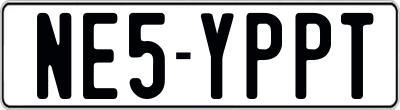5: (126, 10, 163, 99)
E: (83, 10, 121, 98)
N: (35, 13, 70, 101)
P: (243, 11, 284, 98), (293, 12, 331, 102)
T: (341, 10, 379, 98)
Y: (201, 11, 237, 102)
